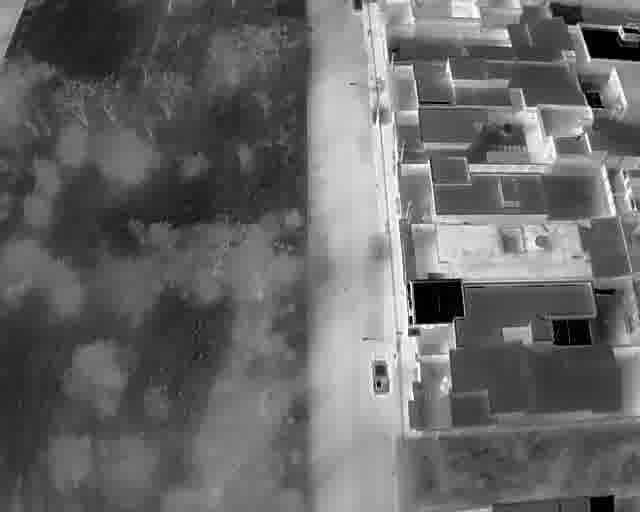car: (370, 358, 390, 394), (351, 0, 363, 13)
